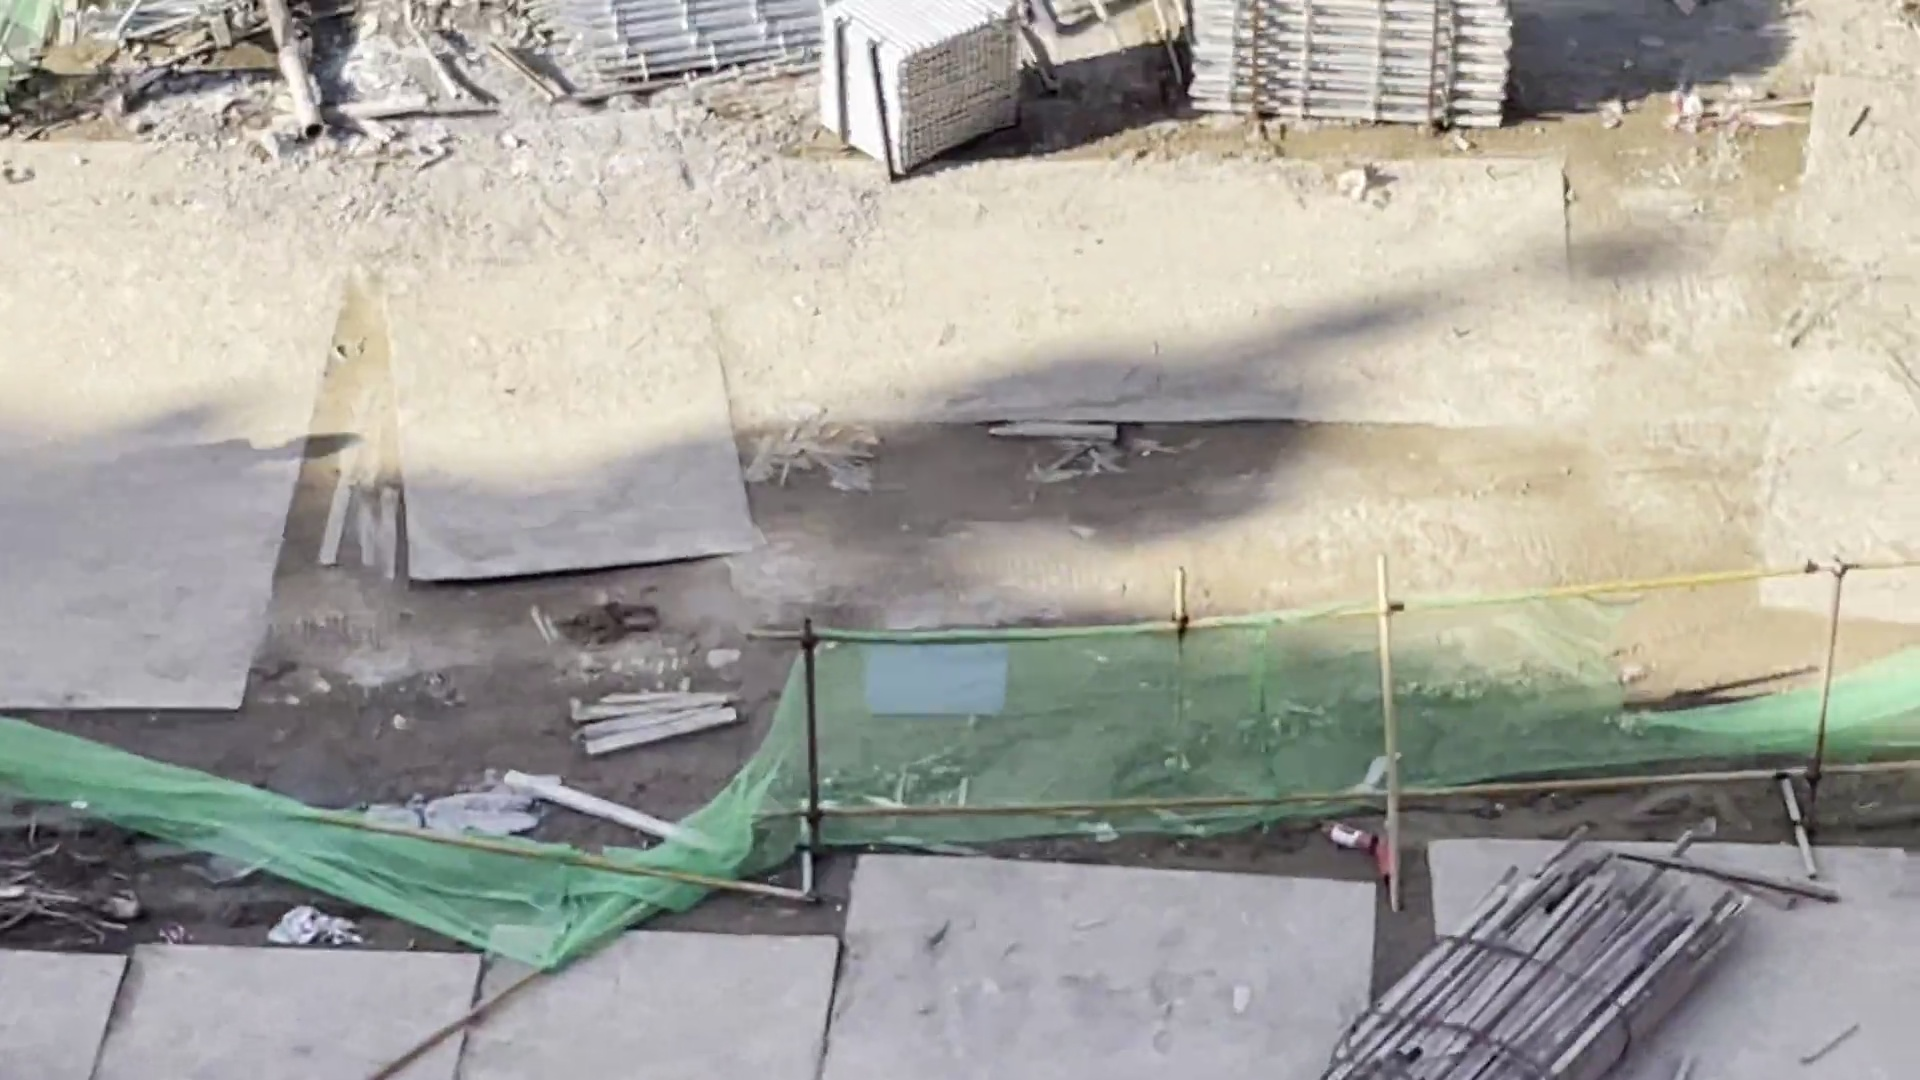scaffold: (1176, 1, 1548, 152), (802, 3, 1021, 187)
